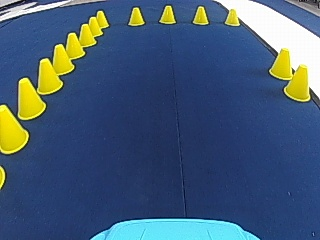cone: (0, 105, 29, 153), (16, 77, 46, 120), (284, 64, 311, 101), (36, 57, 62, 94), (268, 47, 292, 79), (51, 43, 73, 74), (64, 32, 84, 59), (78, 24, 96, 46), (127, 6, 145, 26), (158, 5, 176, 24), (192, 6, 209, 25), (87, 16, 102, 36), (224, 9, 239, 26), (95, 10, 109, 28)
